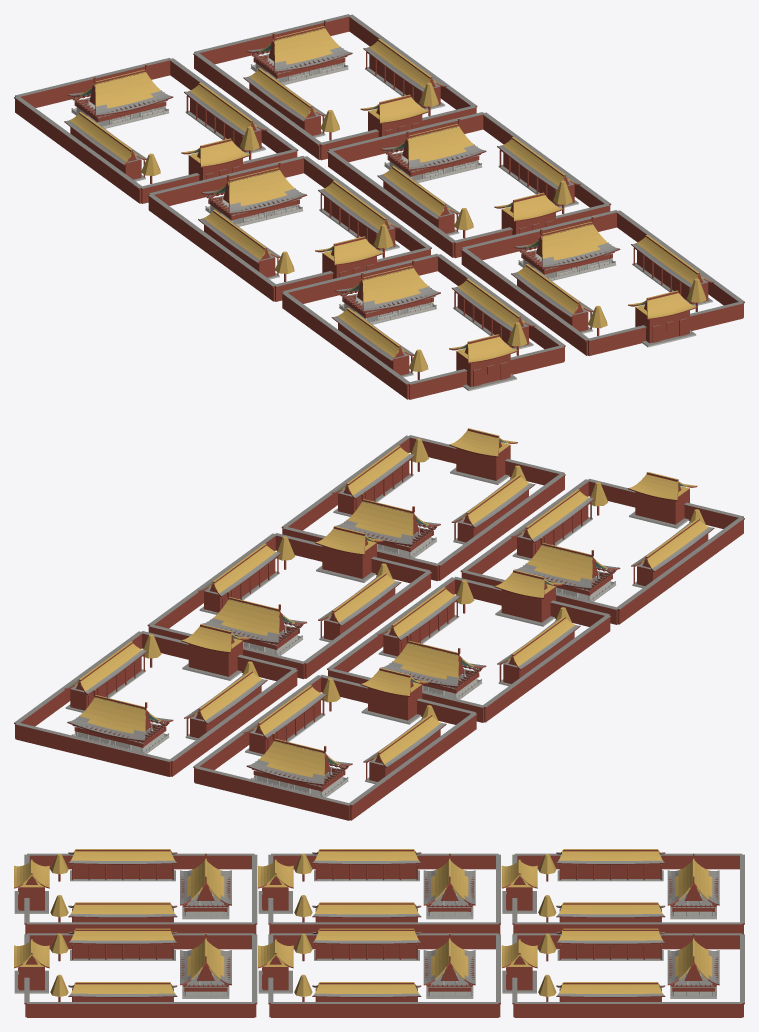
Rendered from r08_east_six.glb.
3 renders of one model, top to bottom at view 1: azimuth 30°, elevation 25°; view 2: azimuth 150°, elevation 25°; view 3: azimuth 270°, elevation 25°, orthographic. The views are drawn at different scales.
Visible parts, largest first — view 1: r08_east_six; view 2: r08_east_six; view 3: r08_east_six.
Part boxes in pixels (x1=…): r08_east_six: x1=14, y1=14, x2=744, y2=399; r08_east_six: x1=14, y1=428, x2=744, y2=820; r08_east_six: x1=14, y1=849, x2=744, y2=1017.
Bounding box in the file's own units: 110 × 12.96 × 225.
